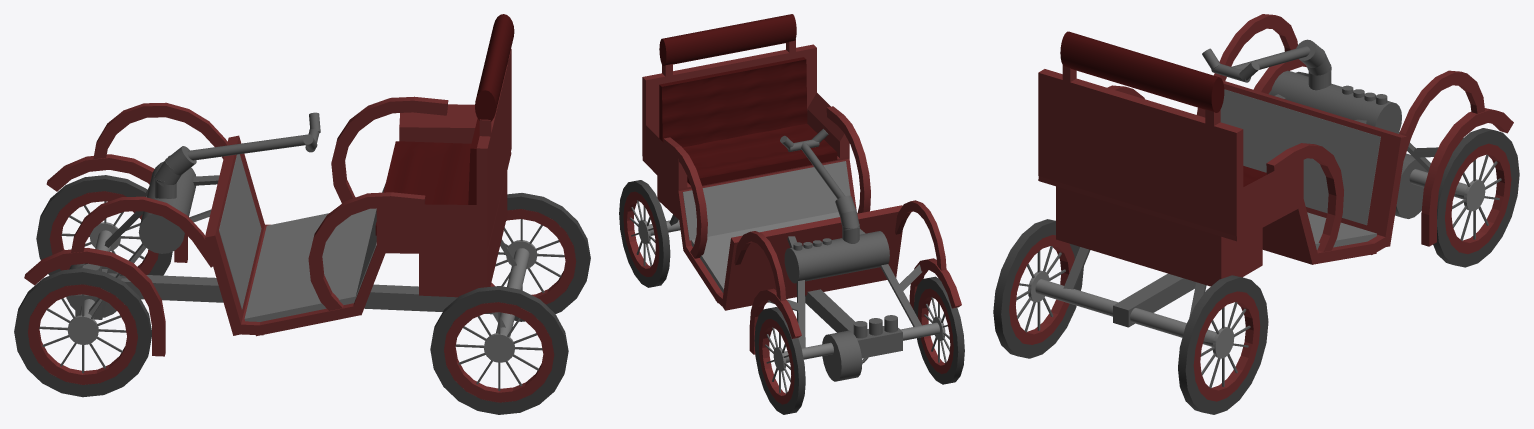
The model's file is cary.fbx.
3 views of the same model, side by side, from view 1: azimuth 30°, elevation 25°; view 2: azimuth 150°, elevation 25°; view 3: azimuth 270°, elevation 25° (orthographic). The views are drawn at different scales.
Visible parts, largest first — view 1: pCube7, pCube13, pCube24, pCube19, pCube14, pCube8, pCube21, pCube20, pCube28, pCube33, pCube25, pCube15 (+16 smaller); view 2: pCube22, pCube23, pCube15, pCube21, pCube14, pCylinder28, pCube8, pCylinder21, pCube20, pCube7, pCylinder20, pCube19 (+15 smaller); view 3: pCube20, pCube28, pCube25, pCube14, pCube8, pCube13, pCylinder28, pCube15, pCube19, pCylinder21, pCylinder29, pCylinder31 (+12 smaller).
Part boxes in pixels (x1,y1,x2,y2): pCube7: (14,268,151,397); pCube13: (430,286,568,414); pCube24: (244,208,376,321); pCube19: (376,104,511,254); pCube14: (490,193,590,321); pCube8: (36,175,172,275); pCube21: (375,141,471,235); pCube20: (476,48,511,249); pCube28: (419,171,507,297); pCube33: (108,273,500,314); pCube25: (219,154,261,309); pCube15: (204,135,264,335); pCube22: (659,57,807,147); pCube23: (682,161,850,240); pCube15: (722,205,902,310); pCube21: (682,124,837,185); pCube14: (619,180,670,287); pCylinder28: (659,14,796,66); pCube8: (754,307,805,414); pCylinder21: (784,231,889,283); pCube20: (642,39,816,157); pCube7: (913,276,964,384); pCylinder20: (822,315,902,381); pCube19: (642,93,849,193); pCube20: (1038,65,1243,236); pCube28: (1056,186,1262,286); pCube25: (1220,89,1380,225); pCube14: (1178,275,1268,414); pCube8: (1433,128,1519,267); pCube13: (993,219,1083,358); pCylinder28: (1060,31,1224,112); pCube15: (1196,80,1407,246); pCube19: (1038,155,1303,241); pCylinder21: (1270,70,1401,133); pCylinder29: (1421,108,1513,246); pCylinder31: (1266,143,1343,251).
Bounding box in the file's own units: 8.49 × 5 × 7.42.
